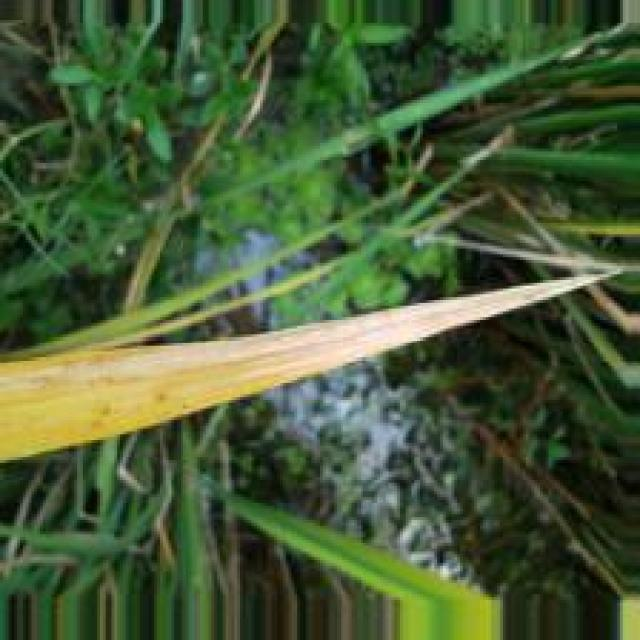Bacterial_Leaf_Blight: (9, 276, 612, 390)
